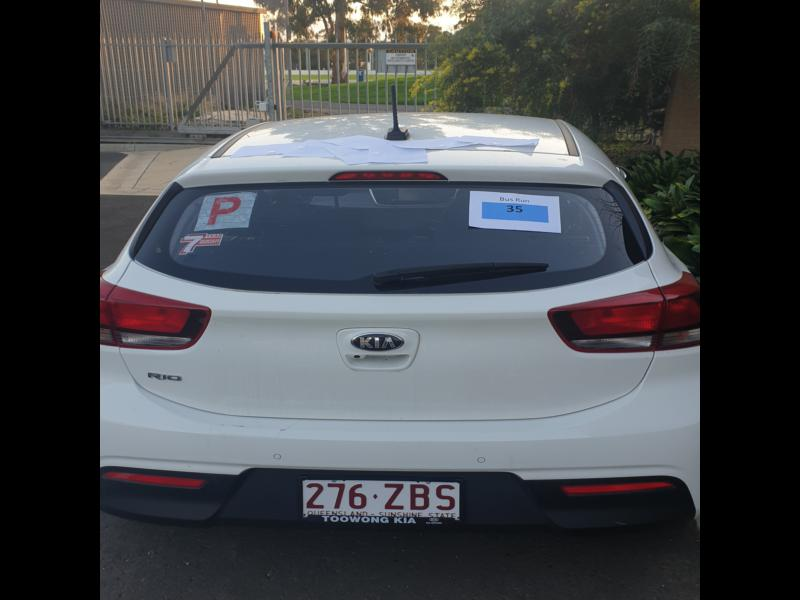BusRun: (481, 201, 553, 221)
PlateNo: (300, 478, 463, 525)
